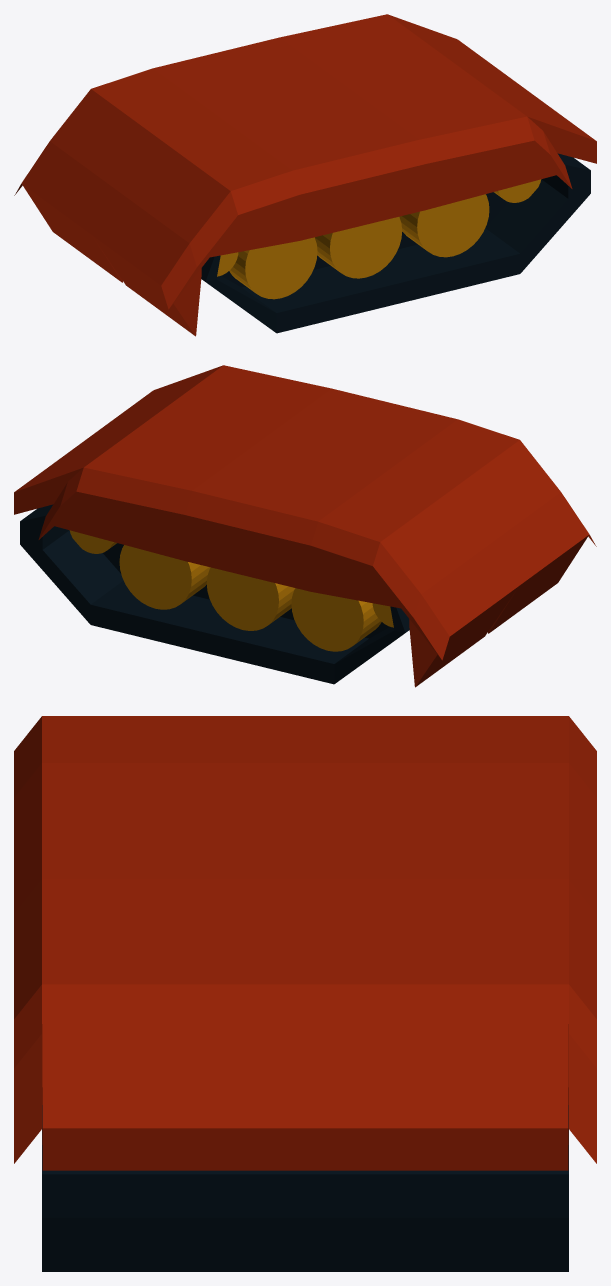
File: EnemyTank.fbx
The picture shows the model from 3 angles, top to bottom: view 1: azimuth 30°, elevation 25°; view 2: azimuth 150°, elevation 25°; view 3: azimuth 270°, elevation 25°; orthographic projection. The views are drawn at different scales.
Visible parts, largest first — view 1: Cube.002, Cube.001, Cylinder, Cylinder.002, Cylinder.001, Cylinder.003; view 2: Cube.002, Cube.001, Cylinder, Cylinder.002, Cylinder.001, Cylinder.003; view 3: Cube.002, Cube.001.
Part boxes in pixels (x1=…): Cube.002: x1=14, y1=14, x2=596, y2=336; Cube.001: x1=201, y1=153, x2=590, y2=333; Cylinder: x1=229, y1=237, x2=317, y2=299; Cylinder.002: x1=399, y1=194, x2=489, y2=257; Cylinder.001: x1=315, y1=217, x2=402, y2=278; Cylinder.003: x1=494, y1=179, x2=541, y2=202; Cube.002: x1=14, y1=365, x2=596, y2=687; Cube.001: x1=20, y1=504, x2=409, y2=684; Cylinder: x1=291, y1=588, x2=381, y2=651; Cylinder.002: x1=119, y1=545, x2=210, y2=609; Cylinder.001: x1=206, y1=567, x2=295, y2=630; Cylinder.003: x1=69, y1=530, x2=116, y2=553; Cube.002: x1=14, y1=716, x2=596, y2=1170; Cube.001: x1=42, y1=1105, x2=568, y2=1271.
Bounding box in the file's own units: 1080 × 376 × 664.
